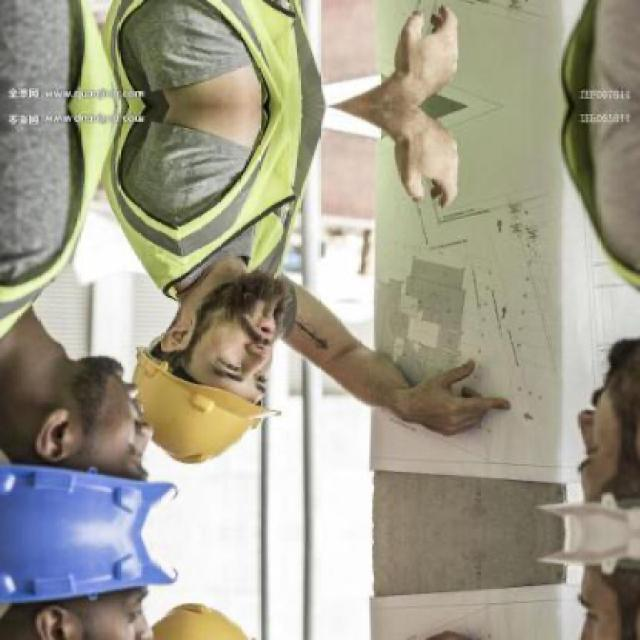con casco: (85, 206, 330, 472), (498, 231, 640, 537), (1, 348, 153, 568)
